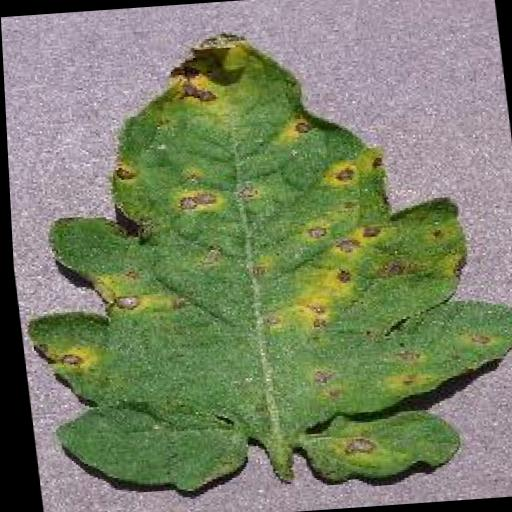Septoria: (0, 11, 512, 504)
